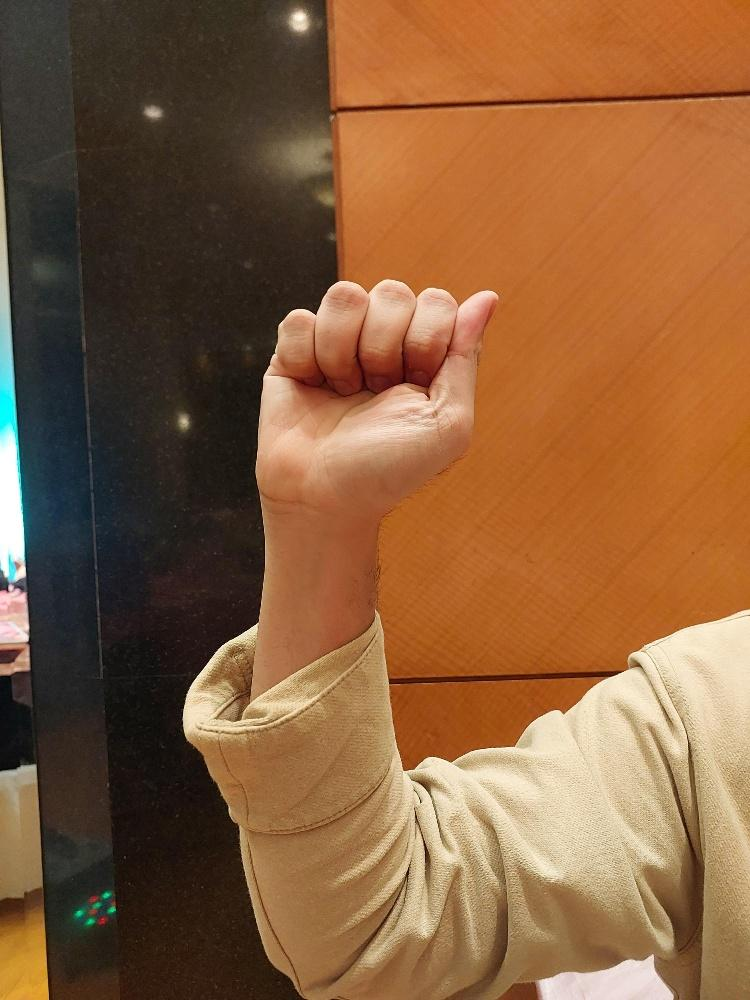a: (251, 274, 499, 515)
